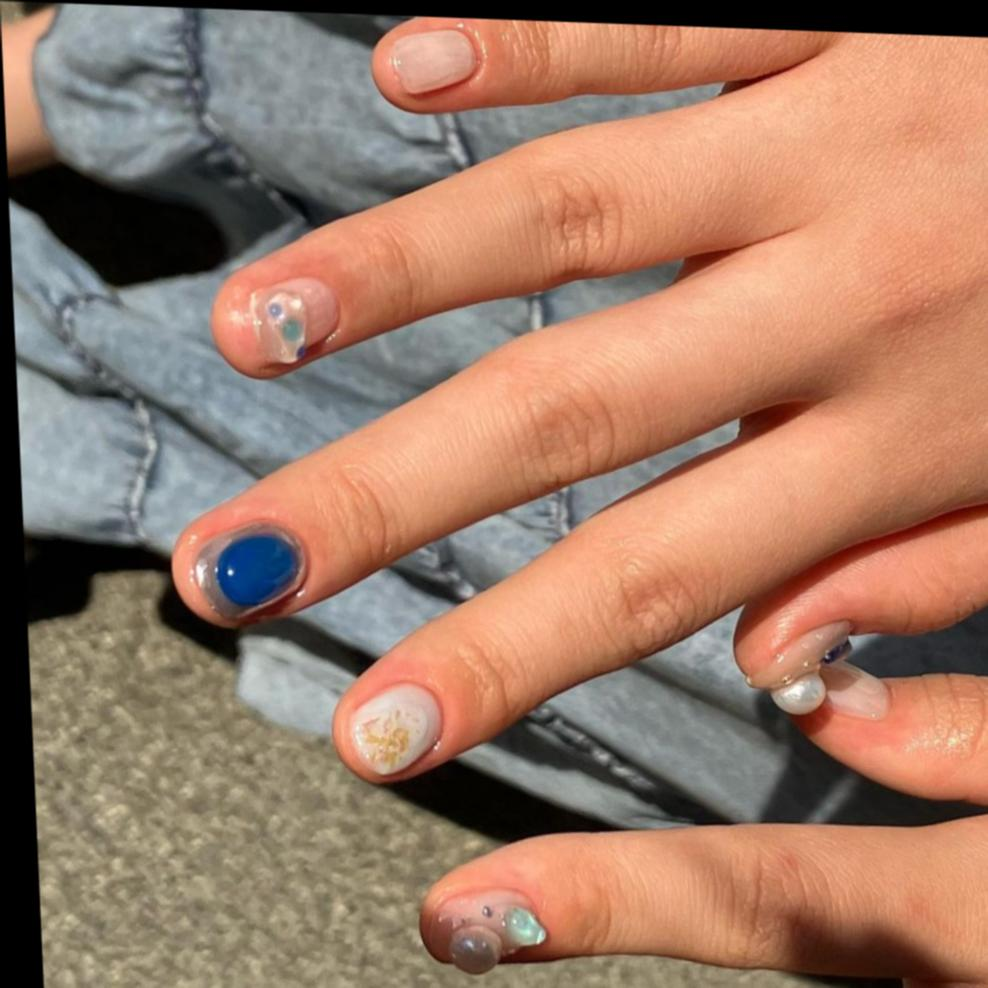nail: (337, 678, 449, 784), (248, 275, 345, 369), (386, 21, 487, 99), (820, 659, 894, 722), (255, 289, 311, 366), (447, 924, 505, 976), (769, 671, 829, 717), (503, 906, 549, 948), (821, 638, 856, 667)
